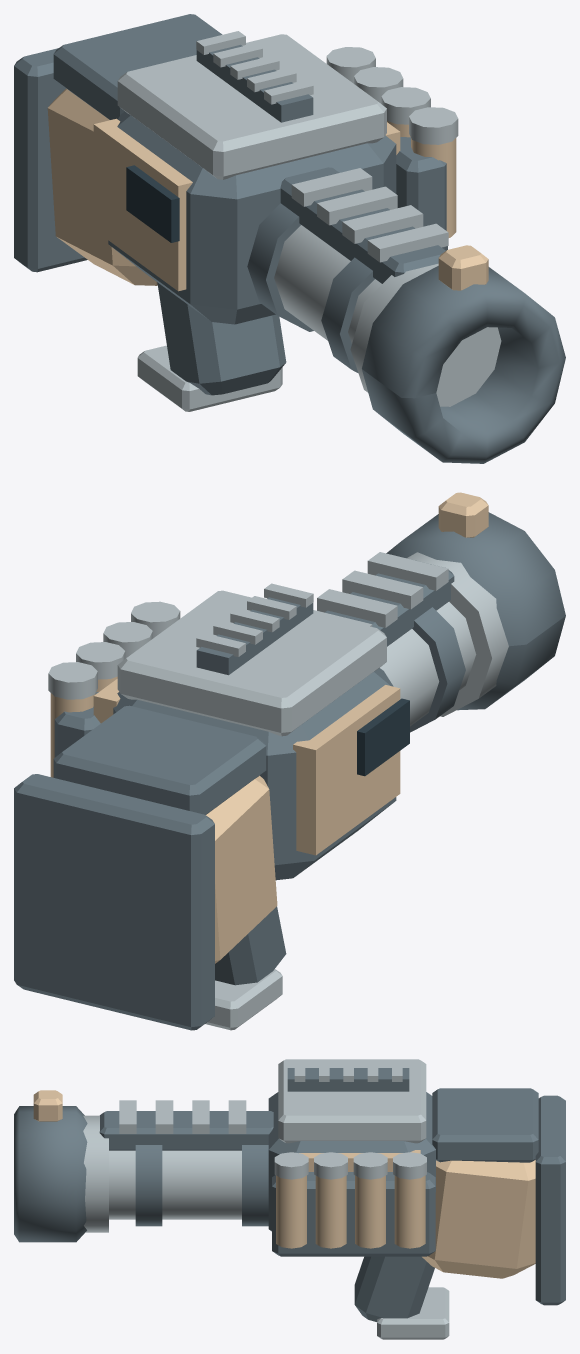
The model's file is shotgun.glb.
3 renders of one model, top to bottom at view 1: azimuth 30°, elevation 25°; view 2: azimuth 150°, elevation 25°; view 3: azimuth 270°, elevation 25°, orthographic. The views are drawn at different scales.
Visible parts, largest first — view 1: static:equipment-dark-steel, static:equipment-steel, static:equipment-shotgun, static:equipment-rubber, static:equipment-recess; view 2: static:equipment-rubber, static:equipment-steel, static:equipment-dark-steel, static:equipment-shotgun, static:equipment-recess; view 3: static:equipment-dark-steel, static:equipment-steel, static:equipment-shotgun, static:equipment-rubber.
Part boxes in pixels (<box>): static:equipment-dark-steel: <box>53,14,565,463</box>; static:equipment-steel: <box>117,31,501,411</box>; static:equipment-shotgun: <box>47,88,488,291</box>; static:equipment-rubber: <box>14,48,286,395</box>; static:equipment-recess: <box>126,165,179,242</box>; static:equipment-rubber: <box>14,774,286,1030</box>; static:equipment-steel: <box>48,552,508,1030</box>; static:equipment-dark-steel: <box>53,512,565,880</box>; static:equipment-shotgun: <box>50,492,488,963</box>; static:equipment-recess: <box>357,698,409,776</box>; static:equipment-dark-steel: <box>14,1068,538,1256</box>; static:equipment-steel: <box>83,1059,449,1339</box>; static:equipment-shotgun: <box>33,1090,535,1278</box>; static:equipment-rubber: <box>354,1095,565,1321</box>.
Size of the model in its own units: 0.306 by 0.3705 by 0.726.
